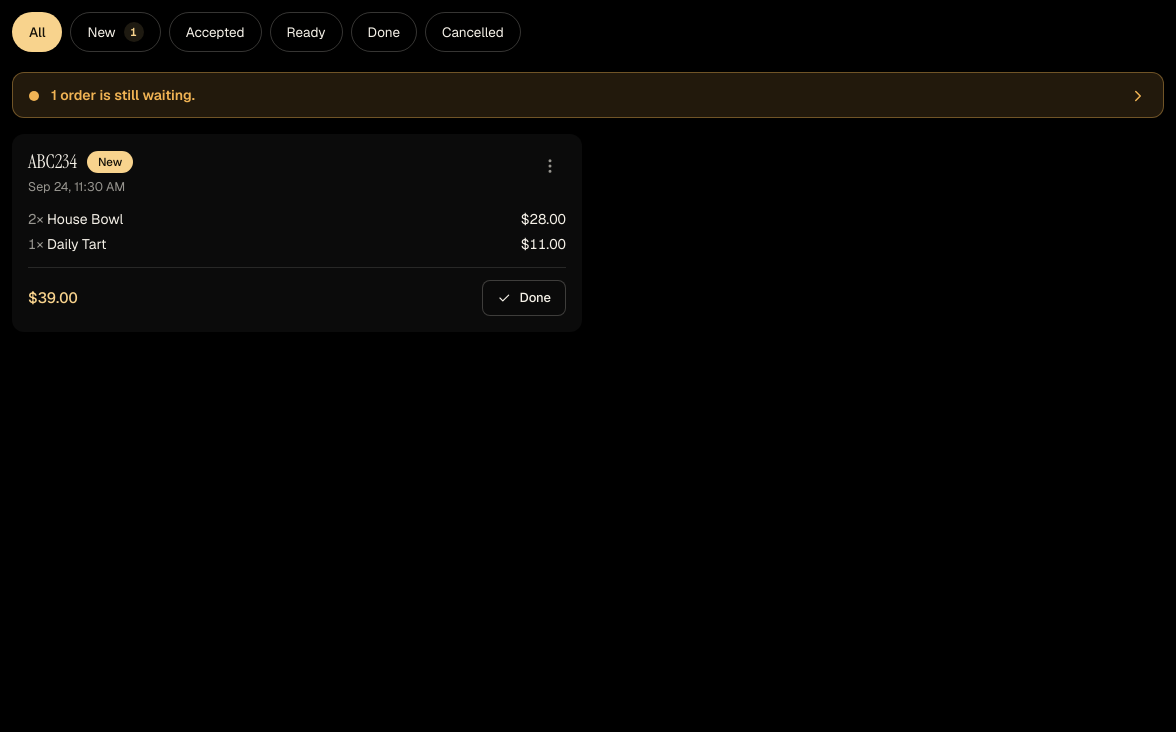
OrdersPage › says why when the guest changed the order first, and shows it as it is now
The image size is (1176, 732).
Step 1. Click the button "Done" → (524, 298), box 482,280 -> 566,316
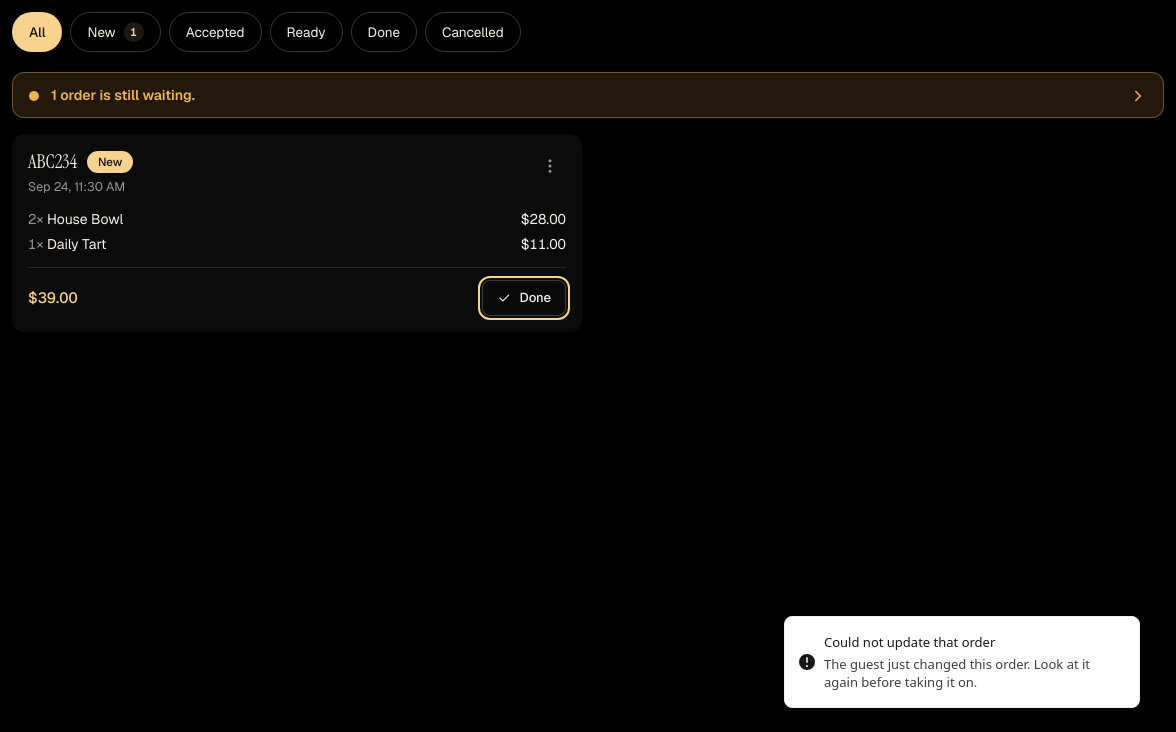
Expected: the text "The guest just changed this order. Look at it again before taking it on." is shown, 824,655 -> 1123,691
